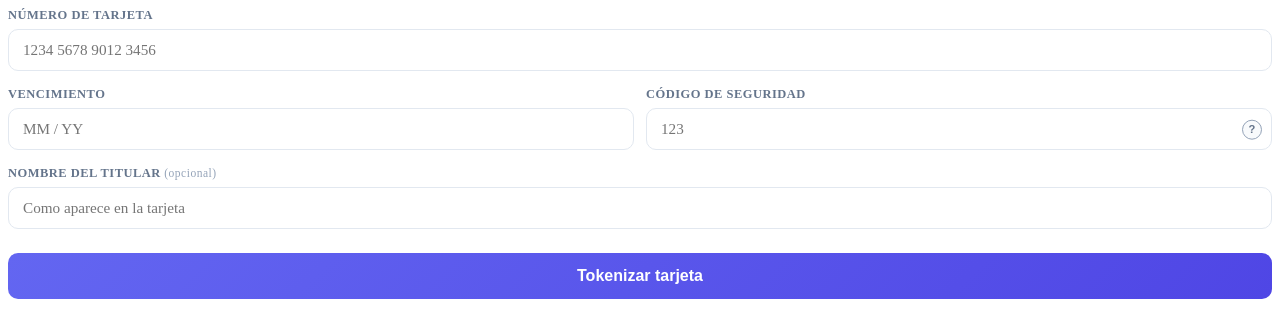
Test: CardFormMinimal › typing a valid Visa card number shows a brand badge
Type "4111111111111111" into the field labelled "Número de tarjeta" at (640,50), box [8,29,1272,71]
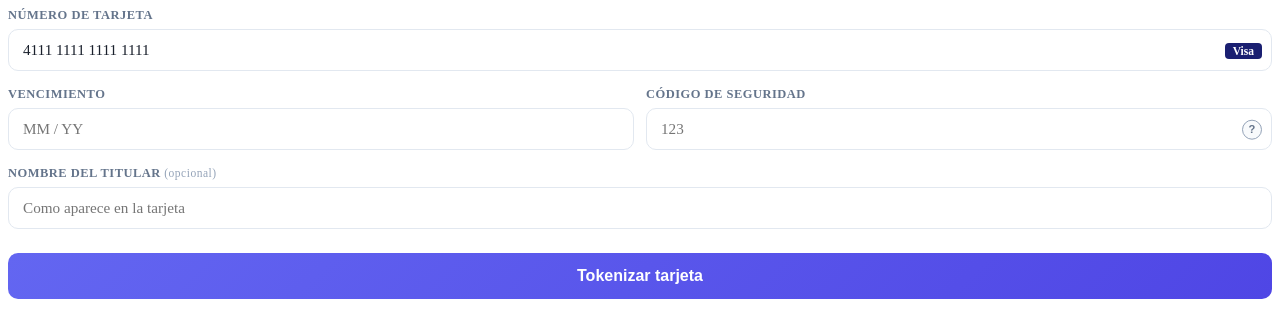
expect the text "Visa" is shown: met, box [1225,43,1262,59]
